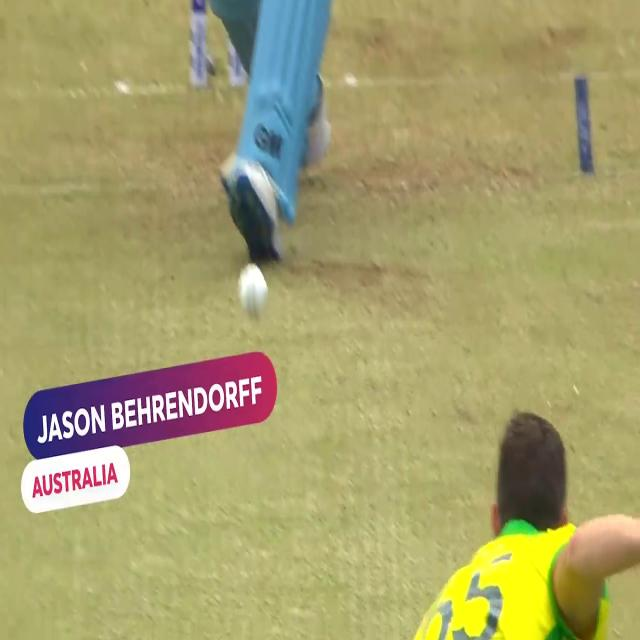ball: (234, 258, 270, 327)
